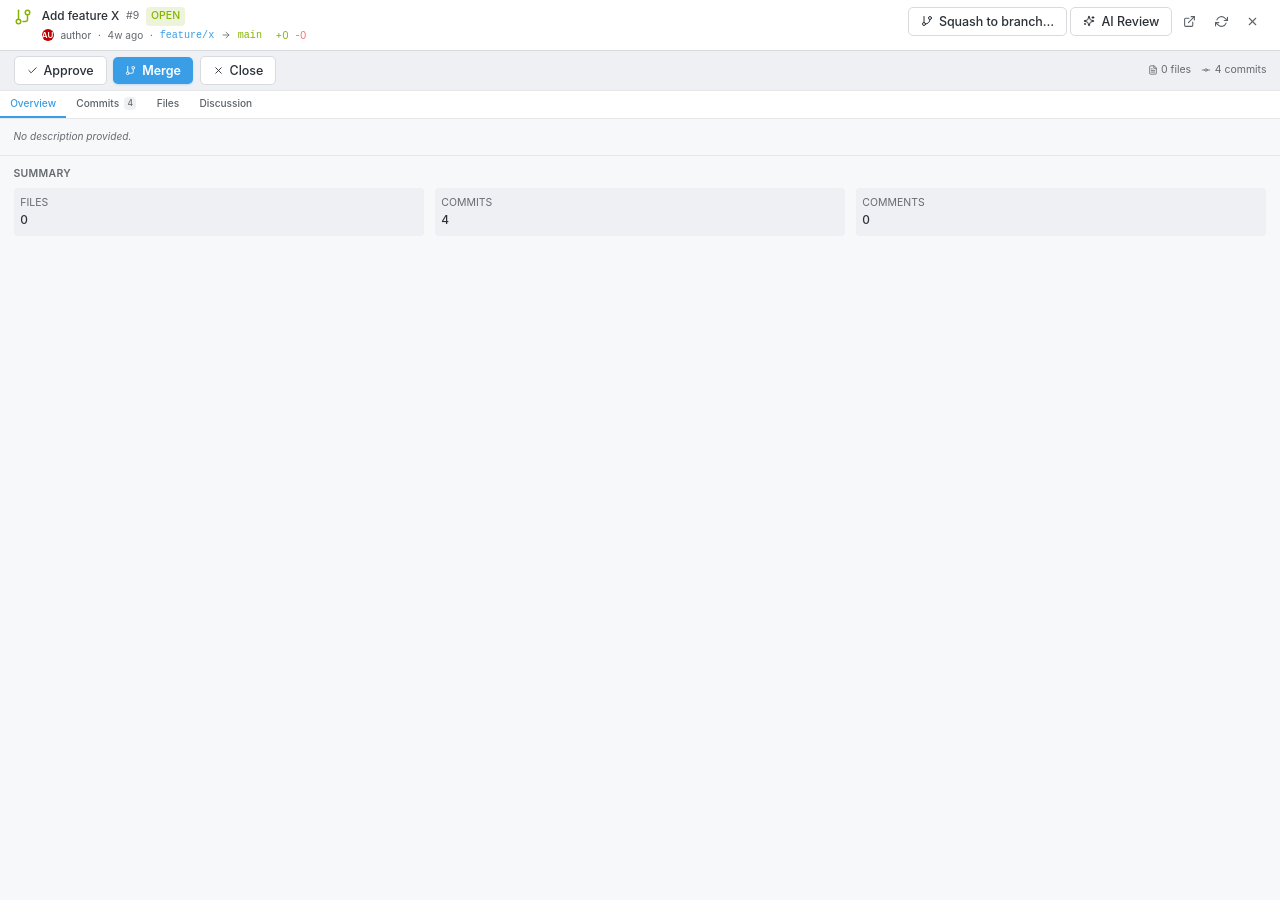
Scenario: PRReview — Commits tab group squash-to-branch › multi-selects a range (Shift+click), shows the action bar, opens the dialog, and squashes OLDEST→NEWEST
Click the button "Commits 4": x=106, y=104 [66,91,146,118]
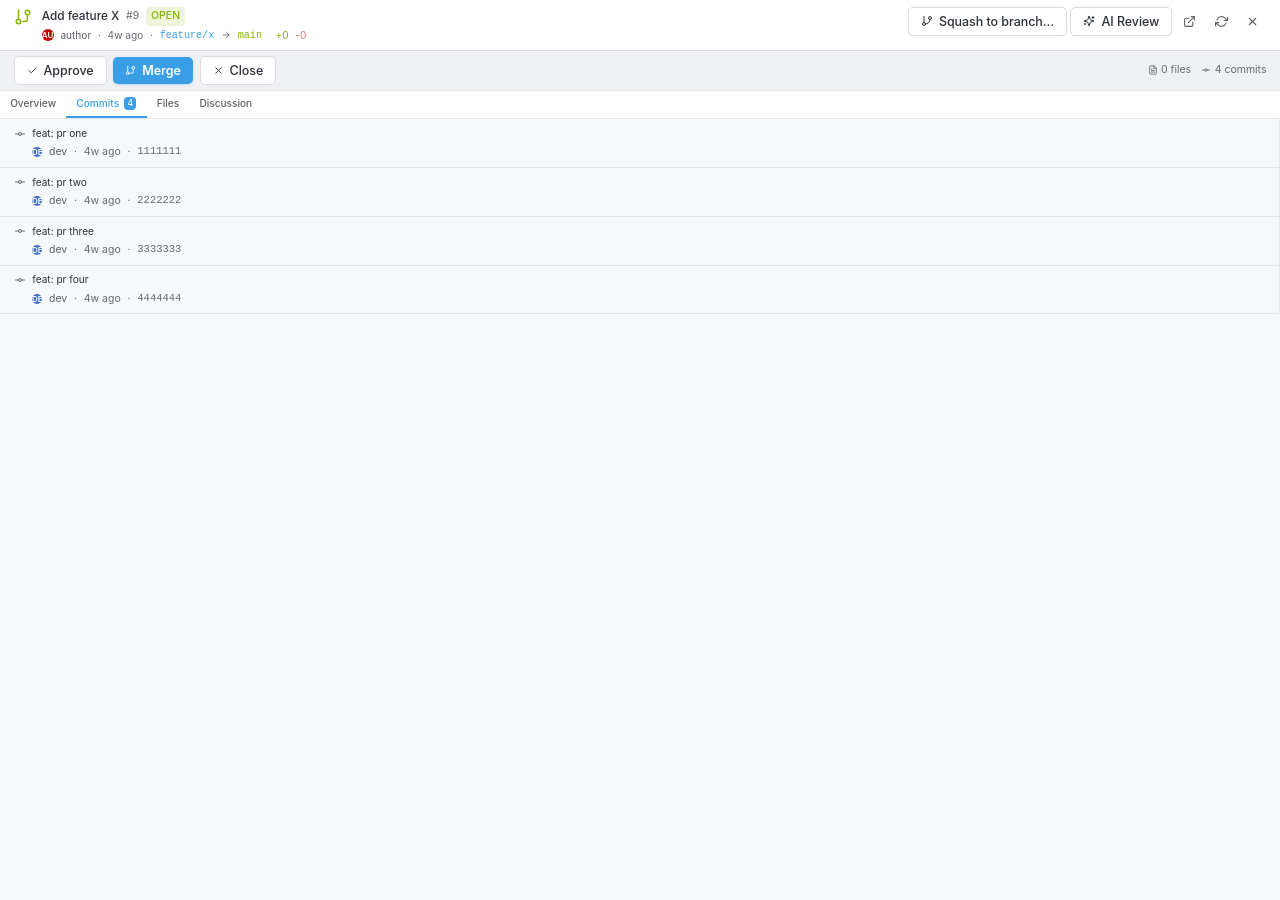
expect the text "feat: pr one" is shown: met
Click the text "feat: pr one": x=60, y=133 [32,127,87,139]
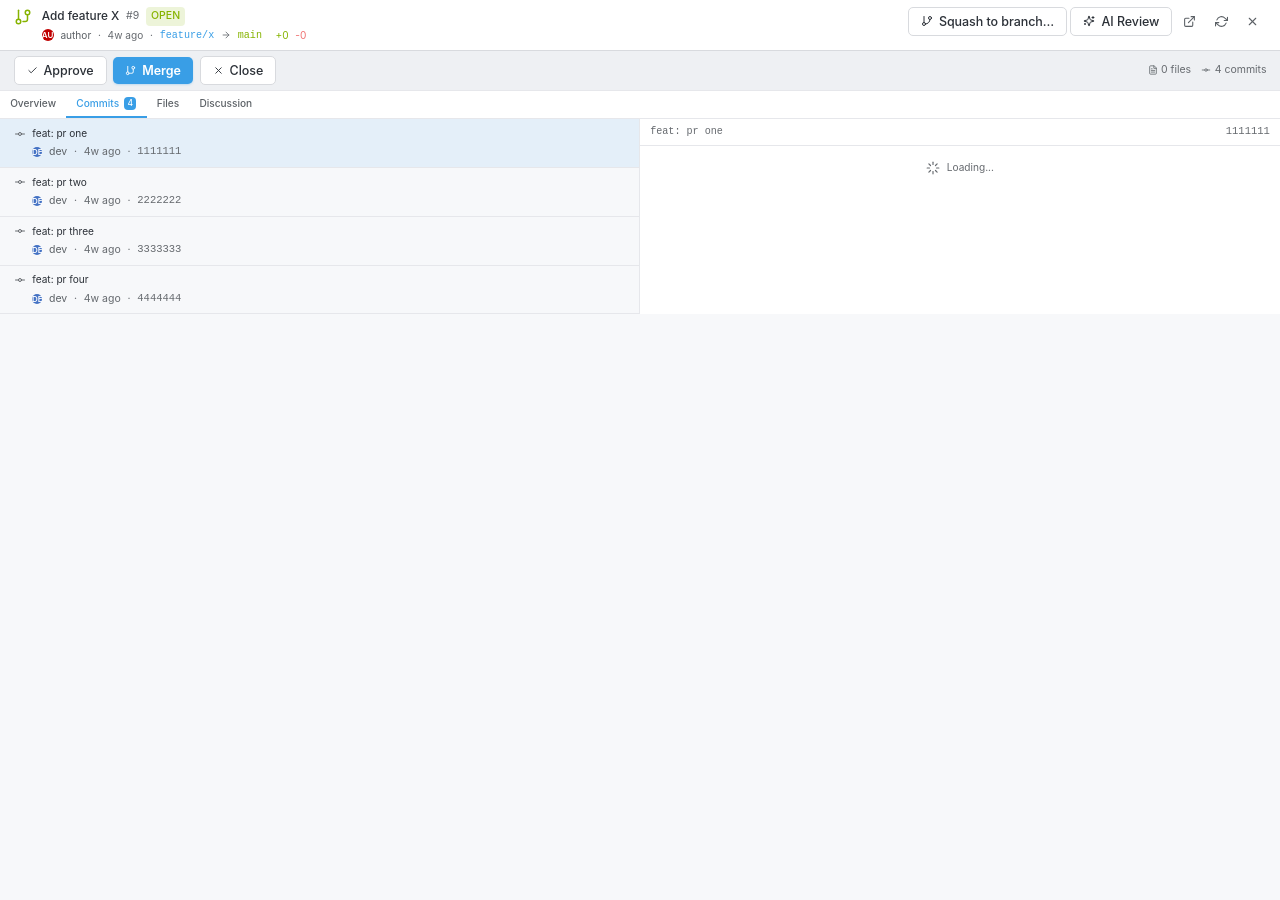
Click the text "feat: pr four": x=60, y=279 [32,273,89,285]
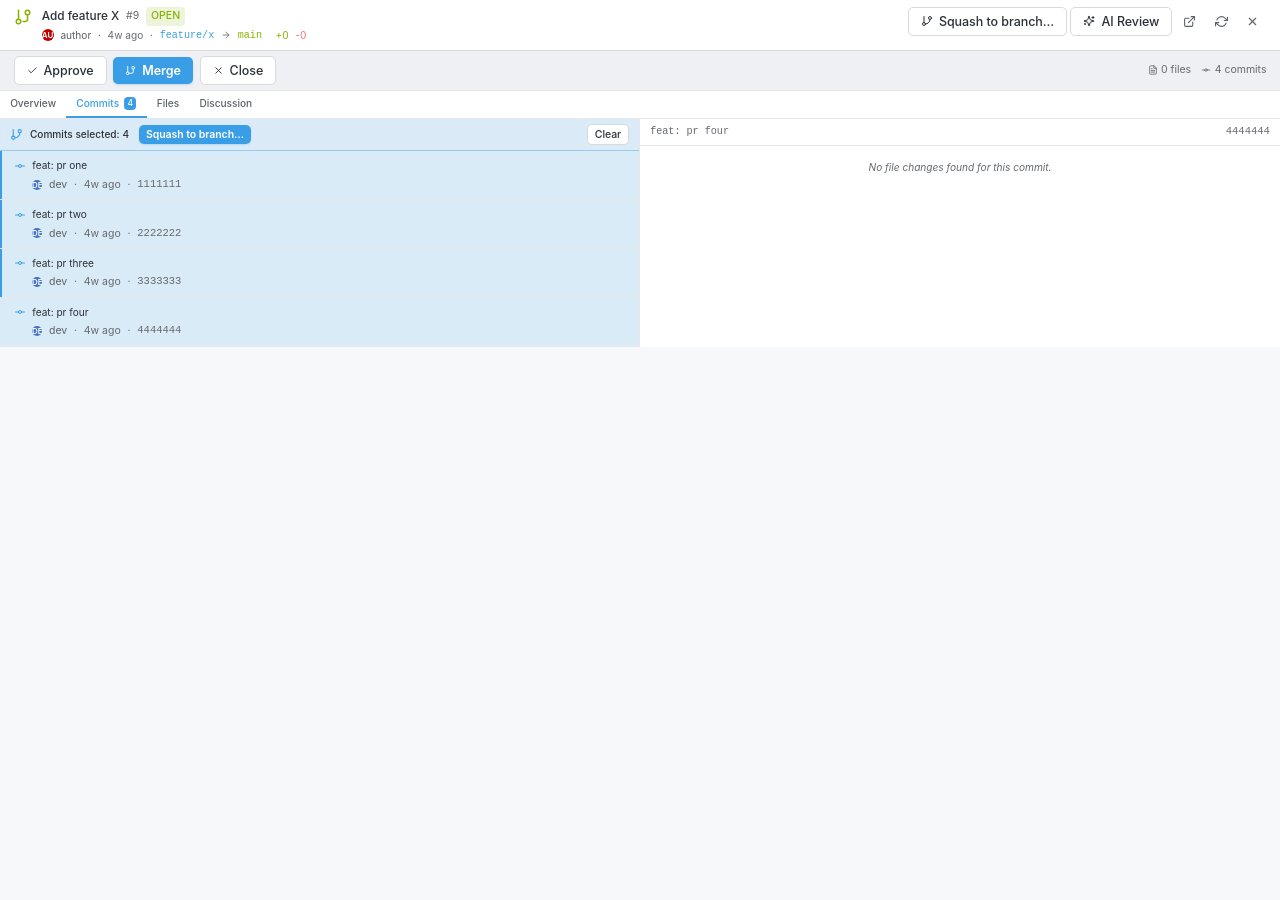
expect the text "Commits selected: 4" is shown: met, box [30,127,129,142]
Click the button "Squash to branch…" next to "Commits selected: 4": x=195, y=135 [139,125,251,144]
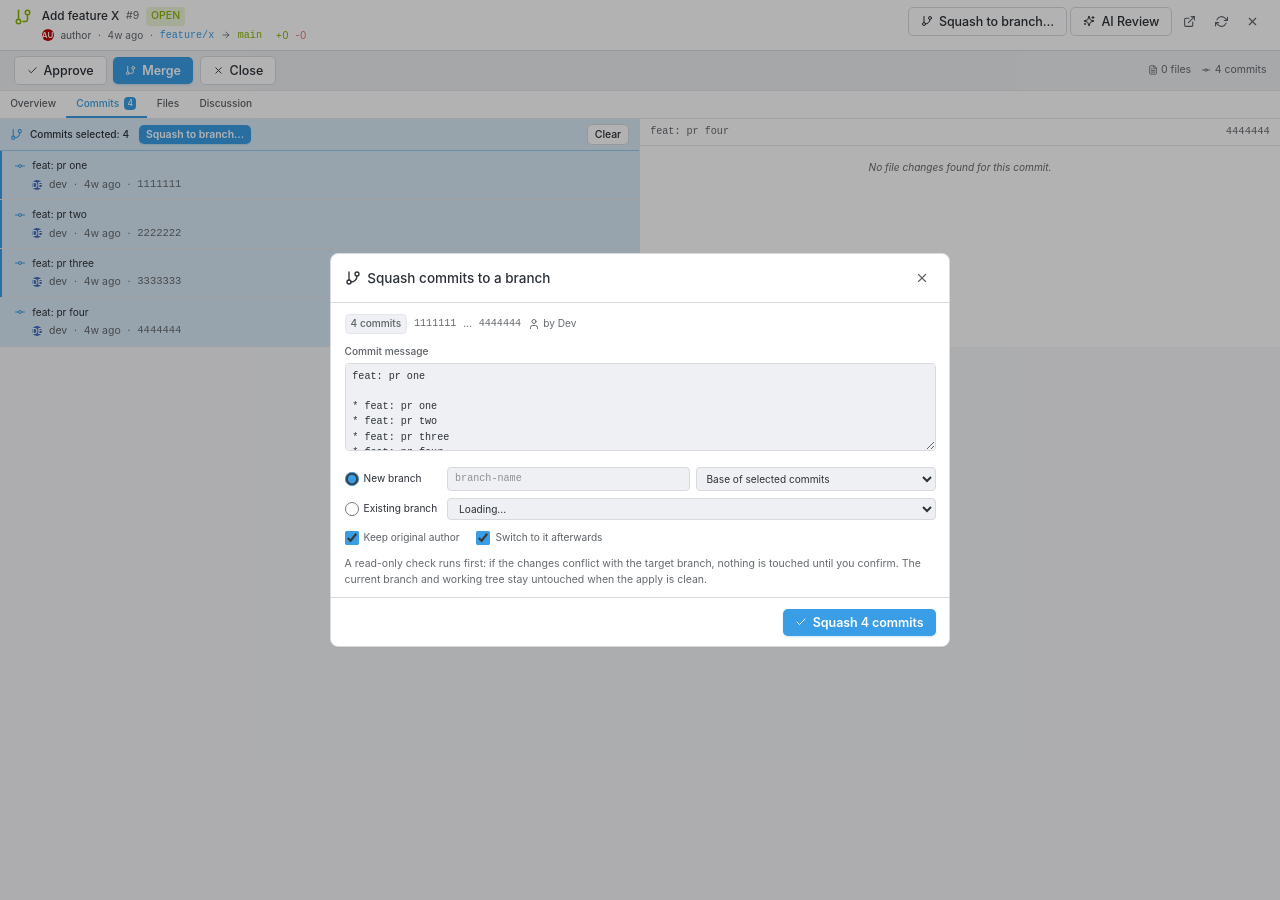
expect the heading "Squash commits to a branch" is shown: met, box [344,268,550,288]
In the field with placeholder "branch-name": x=568, y=479 [447,467,690,491], type "release-x"
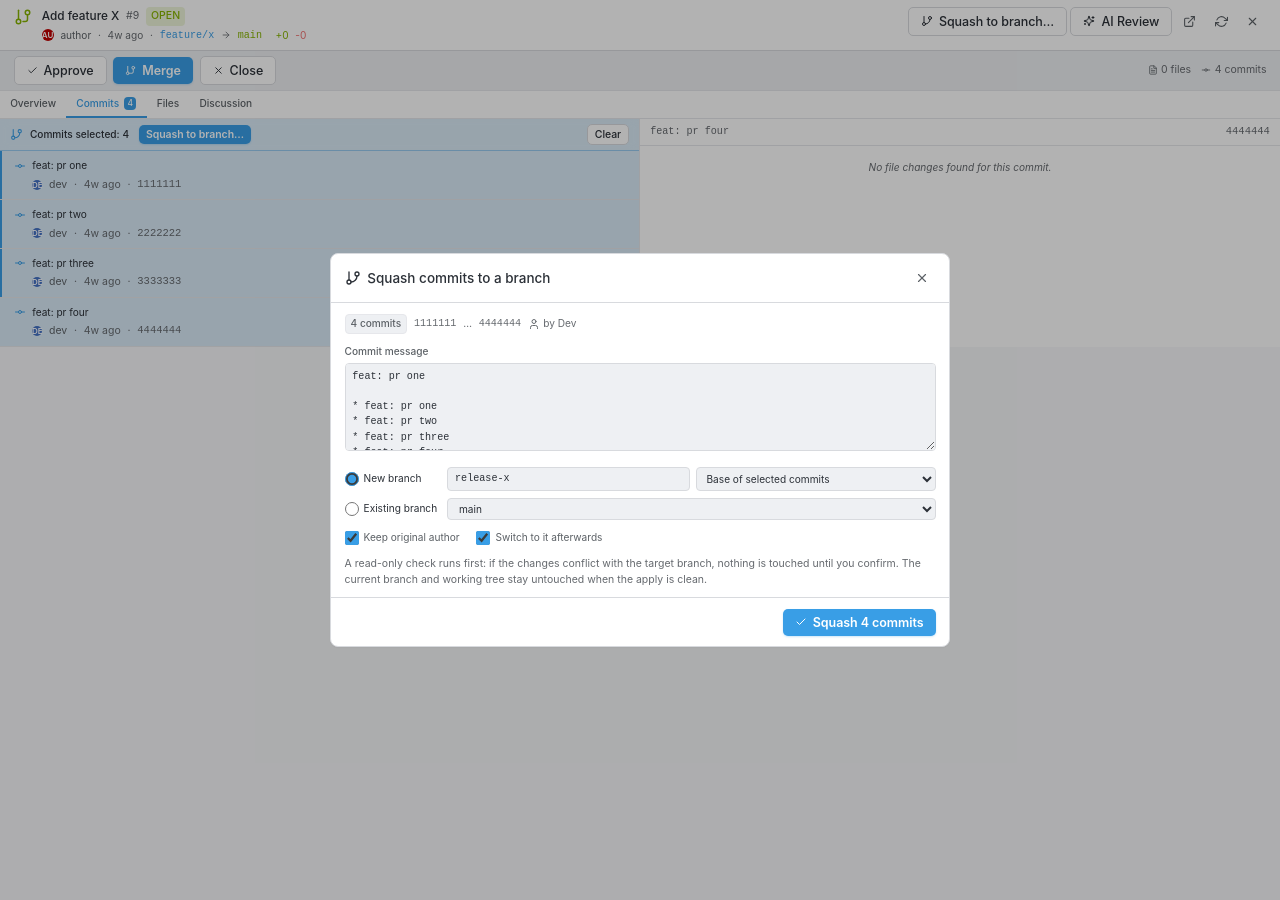
Click the button "Squash 4 commits": x=859, y=622 [783,608,936,636]
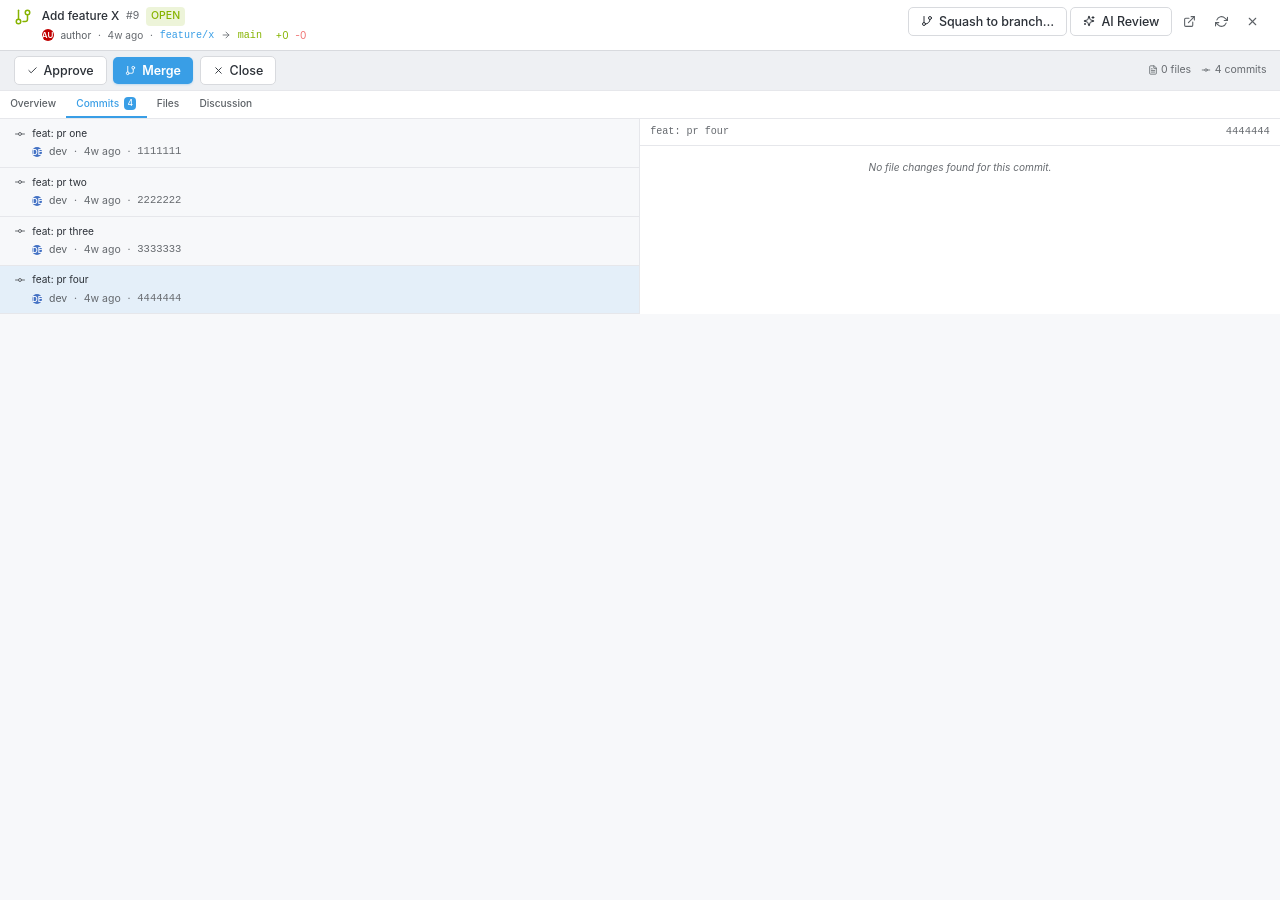
expect the heading "Squash commits to a branch" is gone: met
